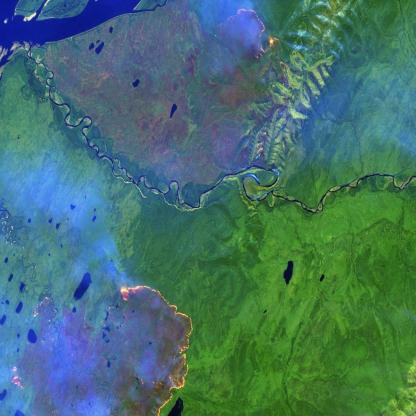fire: (3, 275, 197, 416), (232, 3, 292, 164)
